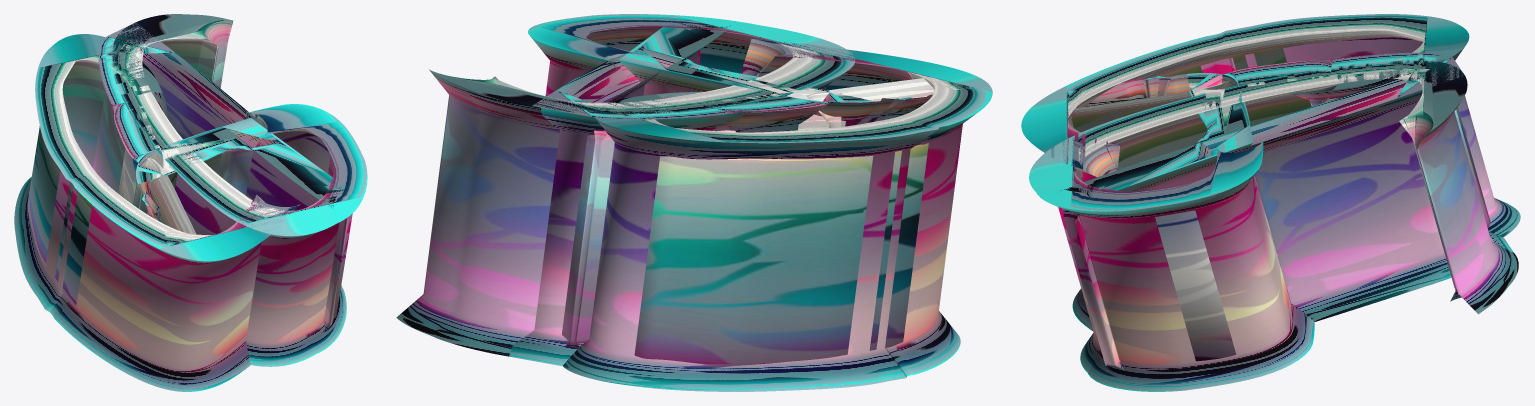
File: cag.glb
3 renders of one model, left to right at view 1: azimuth 30°, elevation 25°; view 2: azimuth 150°, elevation 25°; view 3: azimuth 270°, elevation 25°, orthographic. The views are drawn at different scales.
Parts seen in each view (by area): view 1: Text; view 2: Text; view 3: Text.
Boxes of the visible parts, x1,y1,x2,y2 form: Text: [14, 14, 367, 391]; Text: [396, 14, 992, 391]; Text: [1021, 14, 1520, 391].
Bounding box in the file's own units: 0.5593 × 0.4589 × 0.7287.
Materials: 1 (1 with a texture image).
